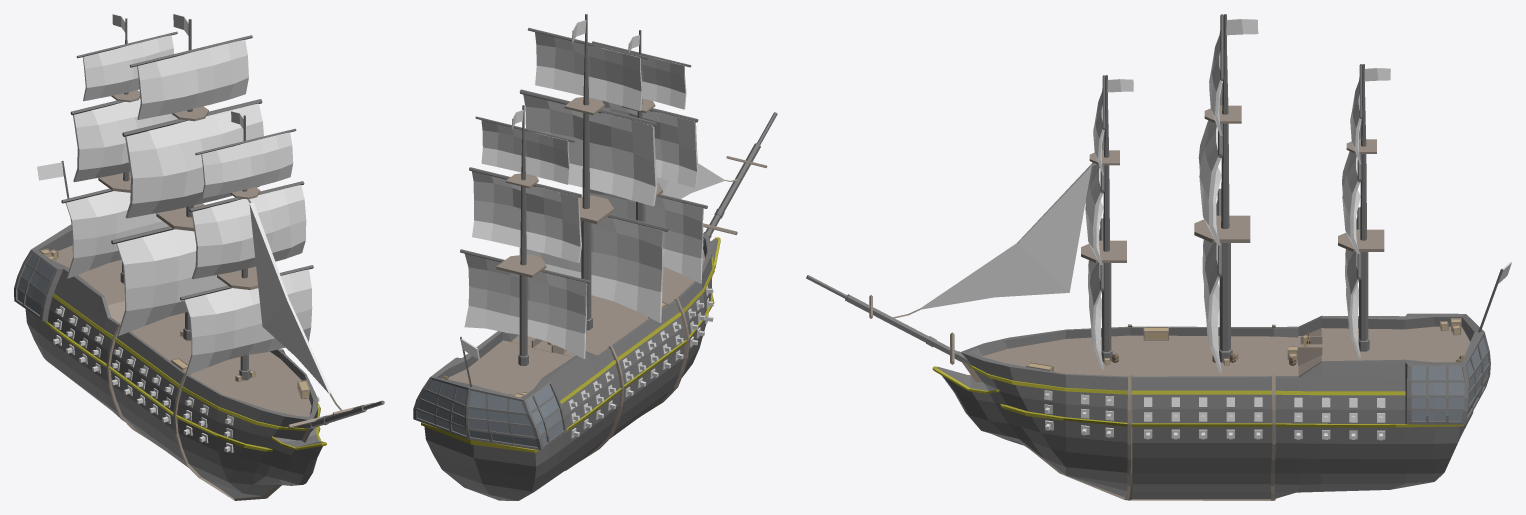
The model's file is TD_Model_ManOWar.fbx.
3 views of the same model, side by side, from view 1: azimuth 30°, elevation 25°; view 2: azimuth 150°, elevation 25°; view 3: azimuth 270°, elevation 25° (orthographic). The views are drawn at different scales.
Parts seen in each view (by area): view 1: Ship_Base_Mesh, Ship_Base_Mesh.003, Ship_Base_Mesh.002, Ship_Base_Mesh.001; view 2: Ship_Base_Mesh, WindowFrame, Ship_Base_Mesh.001, Ship_Base_Mesh.003, Ship_Base_Mesh.002; view 3: Ship_Base_Mesh, Ship_Base_Mesh.002, Ship_Base_Mesh.003, Ship_Base_Mesh.001, WindowFrame.
Boxes of the visible parts, box(x1,y1,x2,y2) form: Ship_Base_Mesh: box(14, 14, 384, 498); Ship_Base_Mesh.003: box(106, 323, 311, 500); Ship_Base_Mesh.002: box(52, 293, 320, 430); Ship_Base_Mesh.001: box(41, 320, 320, 451); Ship_Base_Mesh: box(413, 14, 777, 500); WindowFrame: box(416, 382, 562, 443); Ship_Base_Mesh.001: box(421, 293, 714, 452); Ship_Base_Mesh.003: box(565, 298, 689, 470); Ship_Base_Mesh.002: box(560, 256, 714, 404); Ship_Base_Mesh: box(806, 14, 1511, 499); Ship_Base_Mesh.002: box(968, 365, 1405, 395); Ship_Base_Mesh.003: box(960, 324, 1275, 500); Ship_Base_Mesh.001: box(1000, 404, 1464, 427); WindowFrame: box(1411, 344, 1490, 421).
Bounding box in the file's own units: 2637 × 7021 × 9245.
